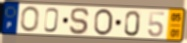0: (124, 10, 143, 37), (43, 7, 60, 34)
5: (147, 11, 166, 38)
O: (92, 8, 114, 37), (20, 6, 41, 33)
S: (68, 7, 91, 36)
